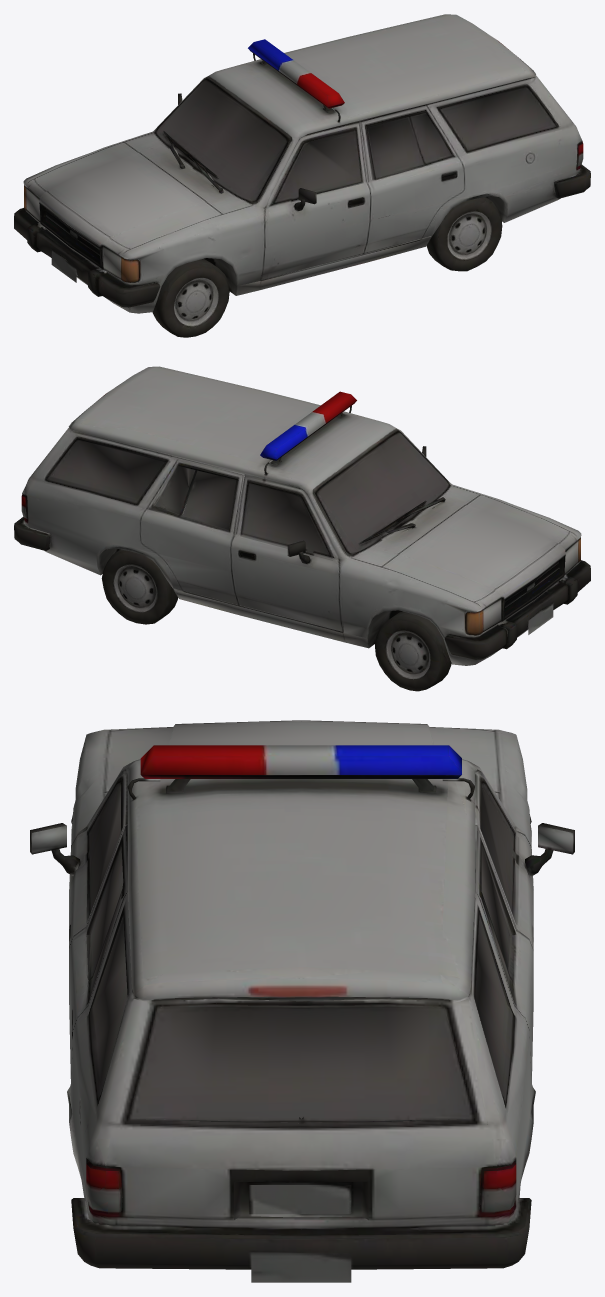
File: carandiru_viatura_1990.glb
3 renders of one model, top to bottom at view 1: azimuth 30°, elevation 25°; view 2: azimuth 150°, elevation 25°; view 3: azimuth 270°, elevation 25°, orthographic. The views are drawn at different scales.
Parts seen in each view (by area): view 1: Weathered Grey Patrol Wagon; view 2: Weathered Grey Patrol Wagon; view 3: Weathered Grey Patrol Wagon.
Part boxes in pixels (left/top/right/bottom): Weathered Grey Patrol Wagon: left=14, top=14, right=590, bottom=337; Weathered Grey Patrol Wagon: left=14, top=366, right=590, bottom=691; Weathered Grey Patrol Wagon: left=30, top=720, right=574, bottom=1282.
Bounding box in the file's own units: 0.998 × 0.3848 × 0.4902.
Materials: 1 (1 with a texture image).
